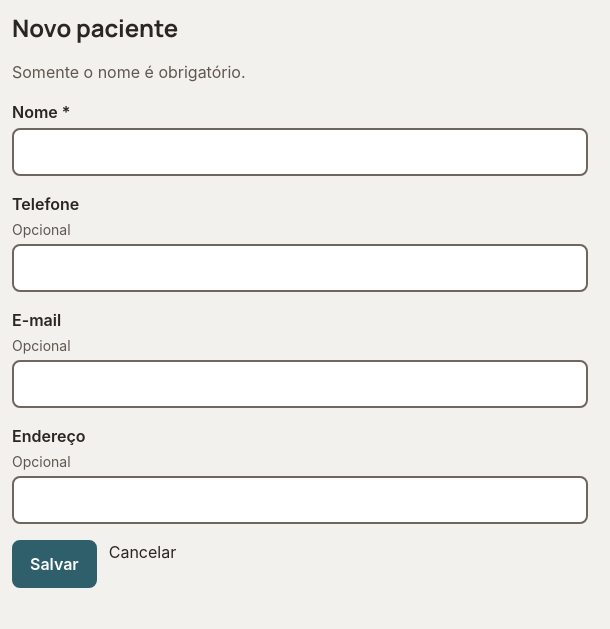
Test: Novo paciente (PAC-01) › nome vazio mostra erro e não envia
Step 1. Click the button "Salvar" → click(54, 564), box [12,540,97,588]
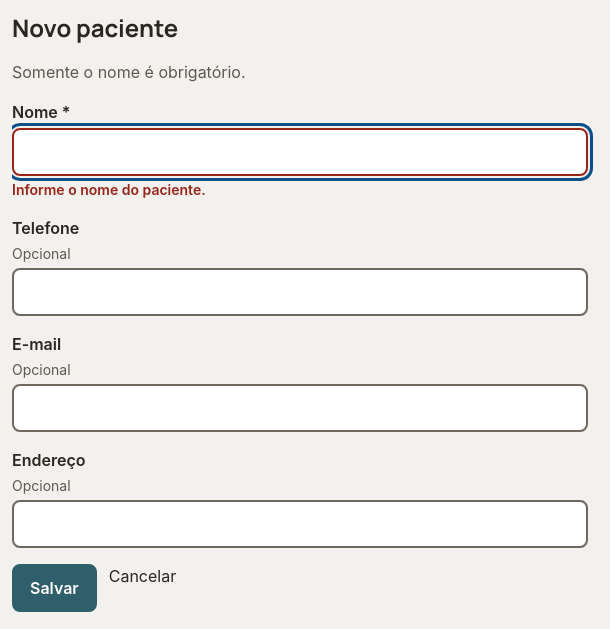
Now the message shows "Informe o nome", box [12,181,206,198]
